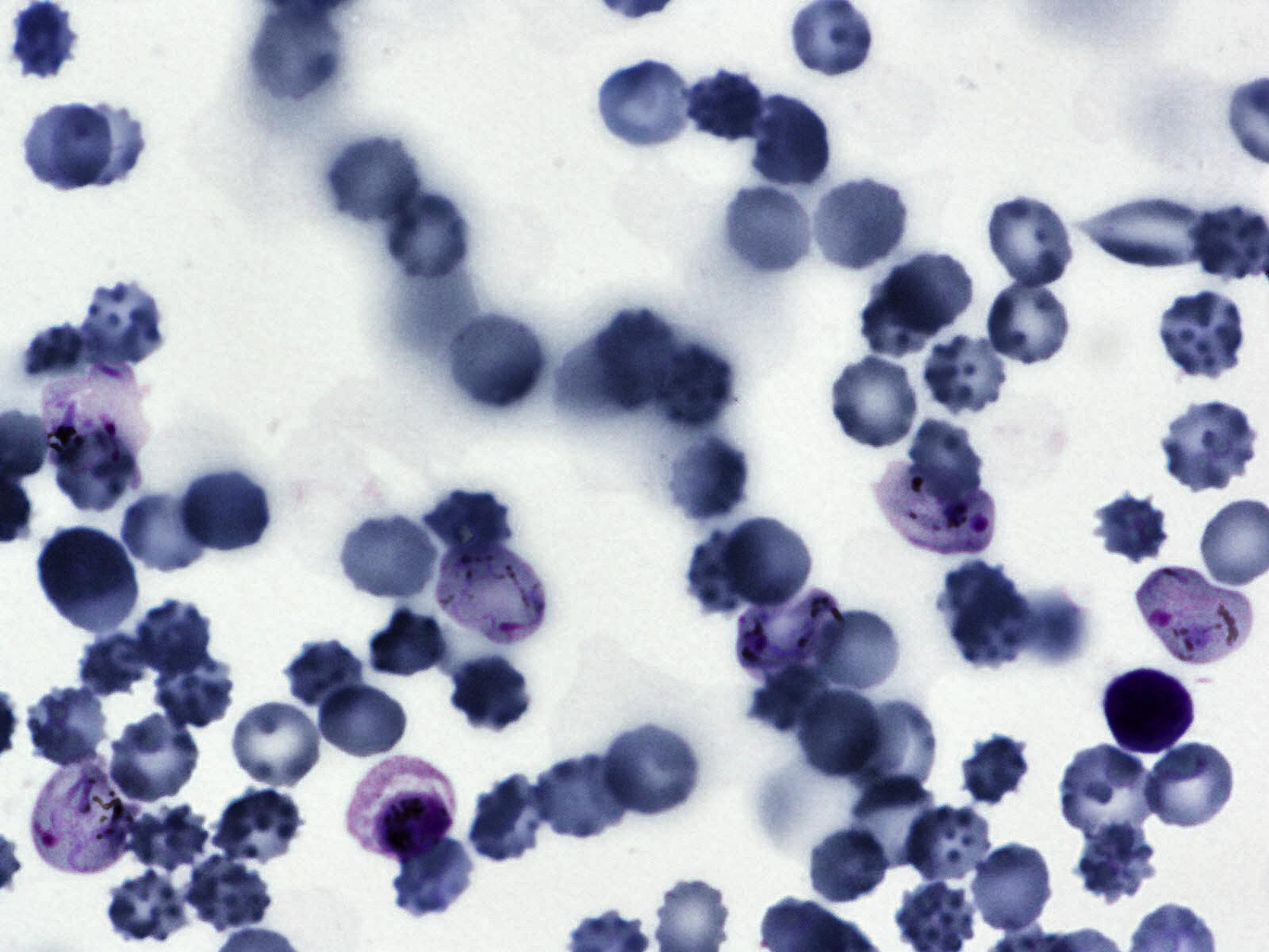Infected: (33, 753, 139, 879), (37, 359, 149, 478), (872, 456, 994, 557), (1136, 566, 1252, 668), (344, 755, 454, 861), (443, 537, 545, 651), (731, 585, 843, 687), (1099, 666, 1199, 757)
Uninfected: (1083, 191, 1217, 271), (443, 311, 545, 412), (599, 720, 703, 819), (806, 175, 909, 274), (36, 526, 136, 627), (1058, 743, 1159, 843), (247, 2, 345, 104), (845, 699, 938, 806), (826, 353, 924, 452), (224, 697, 328, 790), (982, 191, 1078, 291), (337, 512, 439, 606), (593, 59, 696, 152), (721, 512, 817, 611), (719, 182, 816, 279), (324, 133, 424, 227), (1158, 398, 1259, 491), (103, 712, 204, 804), (845, 776, 940, 871), (1141, 740, 1238, 832), (792, 685, 884, 782), (381, 186, 471, 285), (531, 753, 629, 842), (1155, 290, 1253, 378), (662, 429, 753, 523), (117, 490, 215, 577), (983, 275, 1075, 367), (52, 422, 142, 515), (968, 843, 1057, 936), (651, 338, 737, 434), (21, 104, 113, 193), (313, 680, 411, 762), (748, 96, 833, 190), (597, 307, 675, 409), (884, 248, 977, 332), (52, 102, 146, 185), (210, 789, 306, 869), (79, 280, 167, 367), (183, 468, 271, 554), (466, 777, 552, 865), (857, 274, 943, 362), (903, 805, 996, 886), (939, 562, 1022, 650), (684, 527, 765, 617), (186, 858, 278, 936), (916, 335, 1007, 412), (388, 839, 477, 917), (1073, 823, 1158, 904), (24, 687, 112, 765), (952, 584, 1035, 666), (806, 827, 891, 907), (447, 654, 533, 733), (422, 488, 513, 562), (150, 654, 236, 731), (908, 421, 984, 506), (819, 609, 898, 689), (684, 67, 765, 145), (103, 872, 191, 943), (285, 639, 366, 716), (367, 608, 451, 682), (1090, 491, 1171, 566), (129, 800, 212, 873), (745, 662, 830, 730), (425, 485, 519, 546), (10, 0, 79, 83), (138, 599, 214, 674), (78, 628, 154, 699), (960, 730, 1028, 808), (128, 798, 200, 861), (24, 325, 93, 386)
